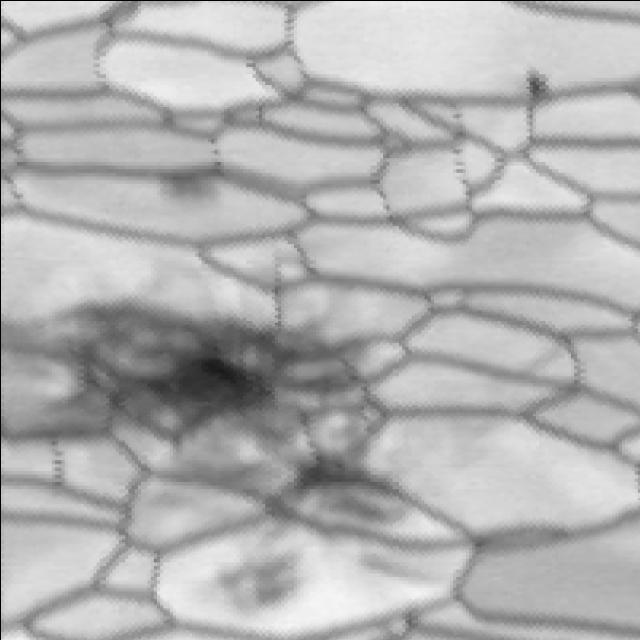good_void: (0, 285, 418, 537), (192, 533, 313, 606), (151, 152, 244, 214), (349, 549, 444, 585), (511, 55, 559, 110)
